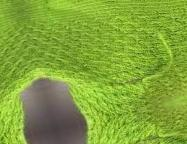snag: (137, 31, 175, 93)
